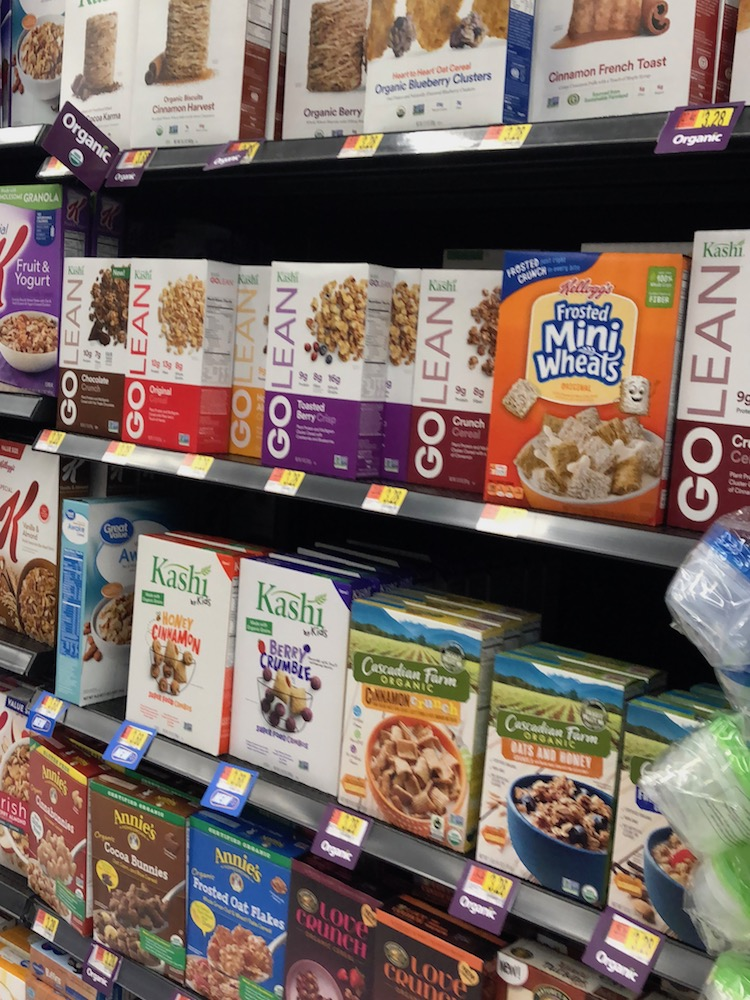Frosted Mini Original -9295869: (490, 253, 669, 498)
